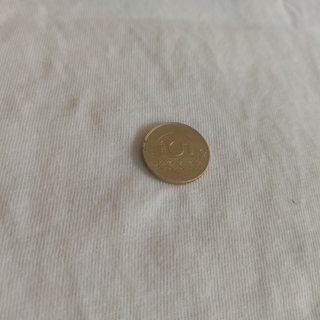5KURUS: (139, 120, 212, 185)
